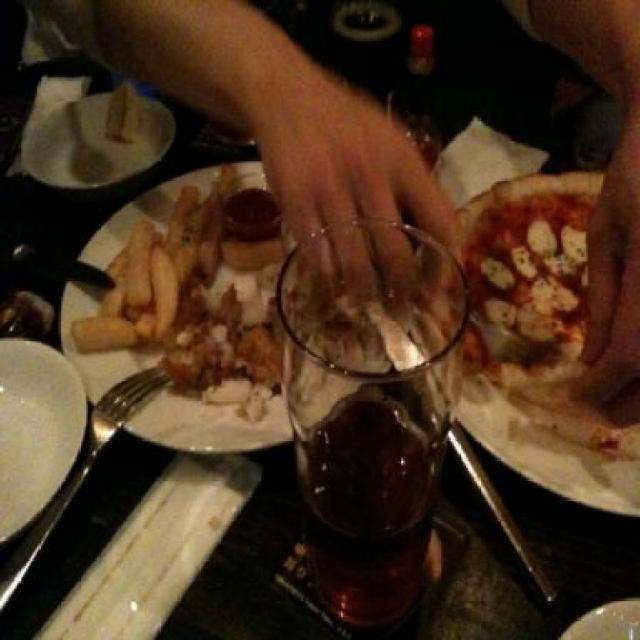Pizza: (454, 160, 614, 422), (154, 265, 292, 417)
